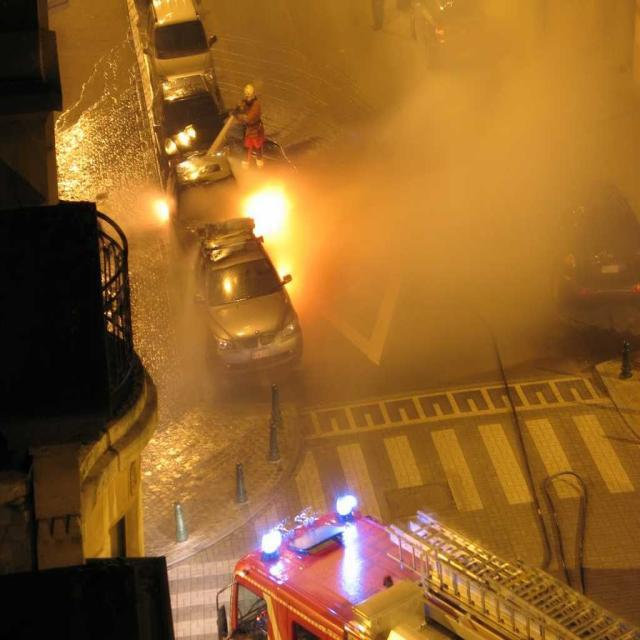Fire: (239, 180, 295, 241), (144, 189, 170, 226)
